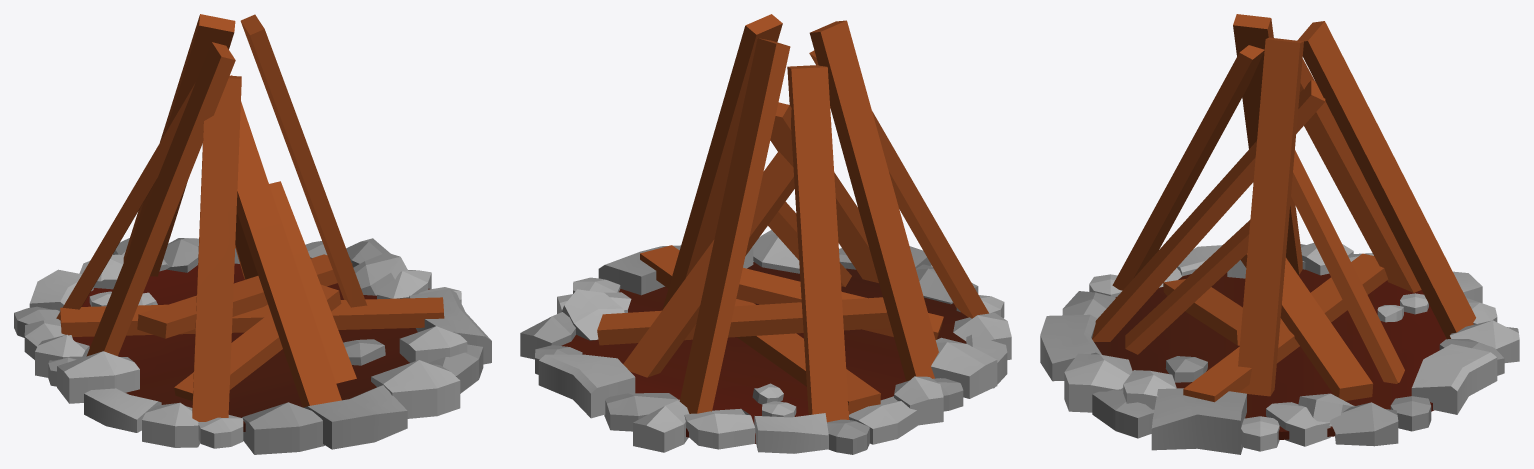
Rendered from FireBon.fbx.
3 renders of one model, left to right at view 1: azimuth 30°, elevation 25°; view 2: azimuth 150°, elevation 25°; view 3: azimuth 270°, elevation 25°, orthographic. The views are drawn at different scales.
Visible parts, largest first — view 1: FireBon; view 2: FireBon; view 3: FireBon.
Part boxes in pixels (x1,y1,x2,y2): FireBon: (14,14,491,454); FireBon: (520,14,1011,454); FireBon: (1040,14,1519,454).
Size of the model in its own units: 2.19 by 1.76 by 2.3.
1 material, 1 textured.
